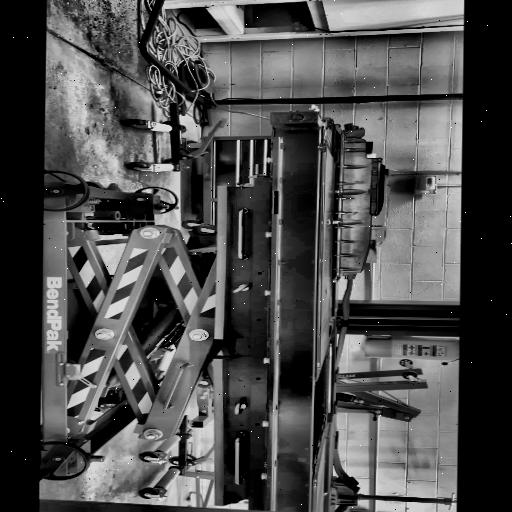b_casing: (205, 105, 404, 512)
